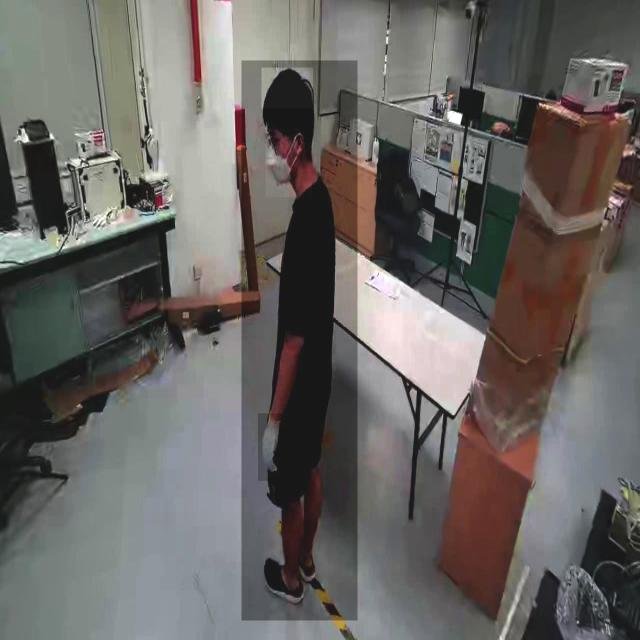face_mask: (266, 111, 300, 197)
hand_glove: (258, 413, 286, 482)
head_nohelmet: (262, 68, 314, 110)
person: (242, 61, 358, 622)
shoes: (261, 555, 305, 602), (290, 530, 318, 586)
